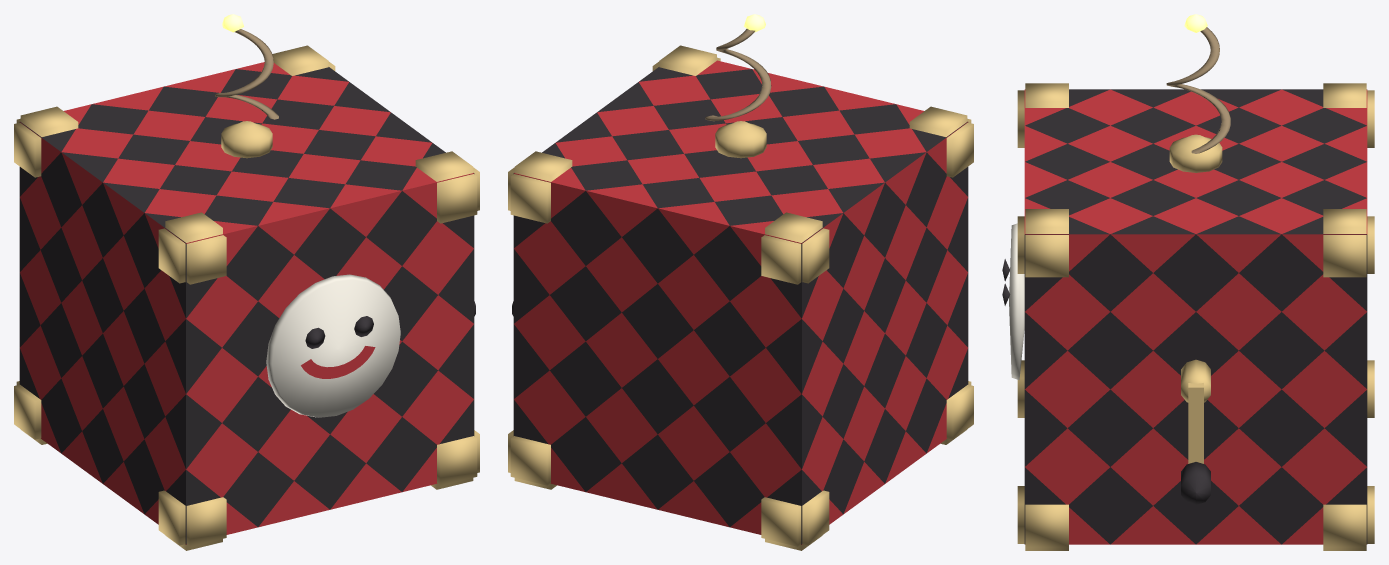
The model's file is joke_box.glb.
The picture shows the model from 3 angles, left to right: view 1: azimuth 30°, elevation 25°; view 2: azimuth 150°, elevation 25°; view 3: azimuth 270°, elevation 25°; orthographic projection. The views are drawn at different scales.
Parts seen in each view (by area): view 1: joke_box; view 2: joke_box; view 3: joke_box.
Boxes of the visible parts, x1,y1,x2,y2 form: joke_box: (14,29,479,550); joke_box: (508,29,973,550); joke_box: (1002,27,1374,550).
Size of the model in its own units: 0.3395 by 0.3835 by 0.2825.
